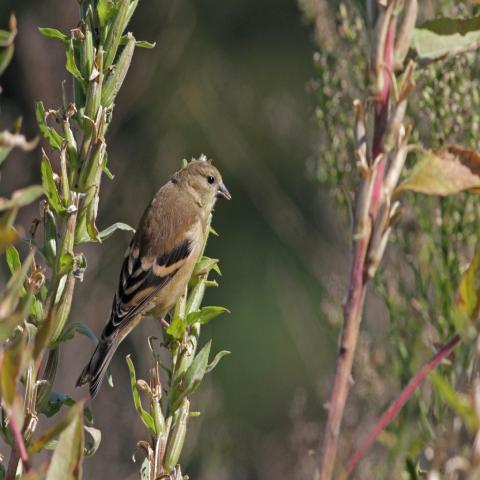bird: (74, 152, 232, 400)
